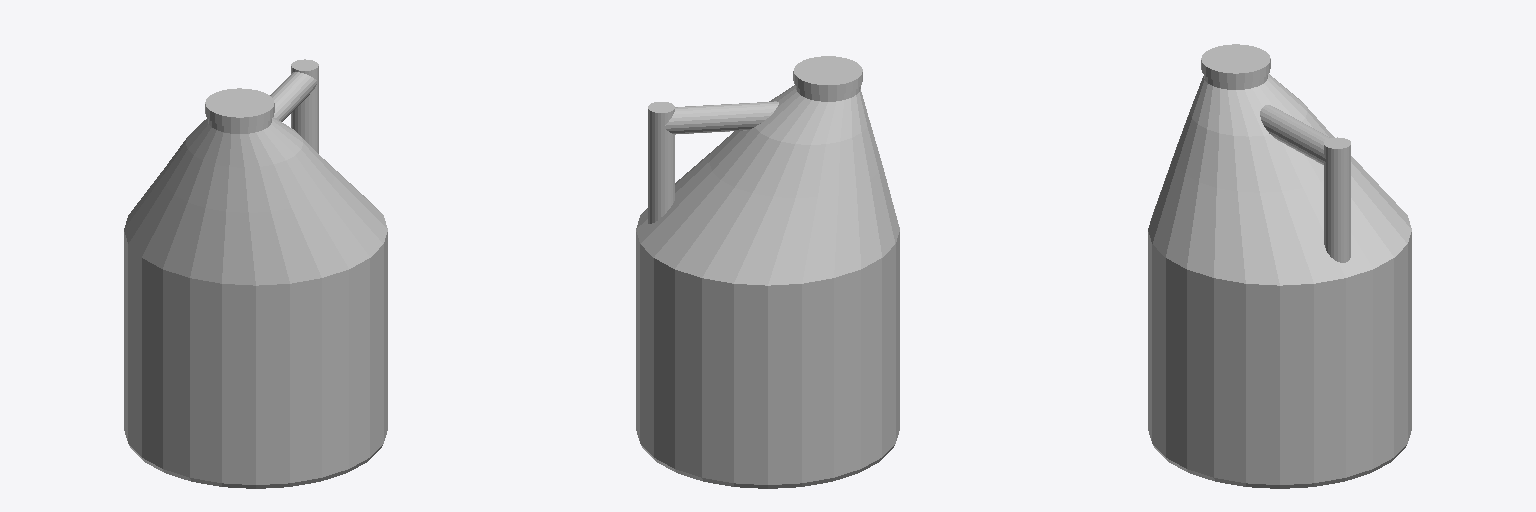
Rendered from bleach jug.obj.
3 views of the same model, side by side, from view 1: azimuth 30°, elevation 25°; view 2: azimuth 150°, elevation 25°; view 3: azimuth 270°, elevation 25° (orthographic).
Visible parts, largest first — view 1: Mesh1 Model, Mesh2 Model; view 2: Mesh1 Model, Mesh2 Model; view 3: Mesh1 Model, Mesh2 Model.
Boxes of the visible parts, <box> form: Mesh1 Model: <box>124,88,387,488</box>; Mesh2 Model: <box>270,59,318,153</box>; Mesh1 Model: <box>636,56,899,488</box>; Mesh2 Model: <box>648,101,778,223</box>; Mesh1 Model: <box>1148,44,1411,488</box>; Mesh2 Model: <box>1260,105,1350,262</box>.
Size of the model in its own units: 6 by 8.94 by 6.